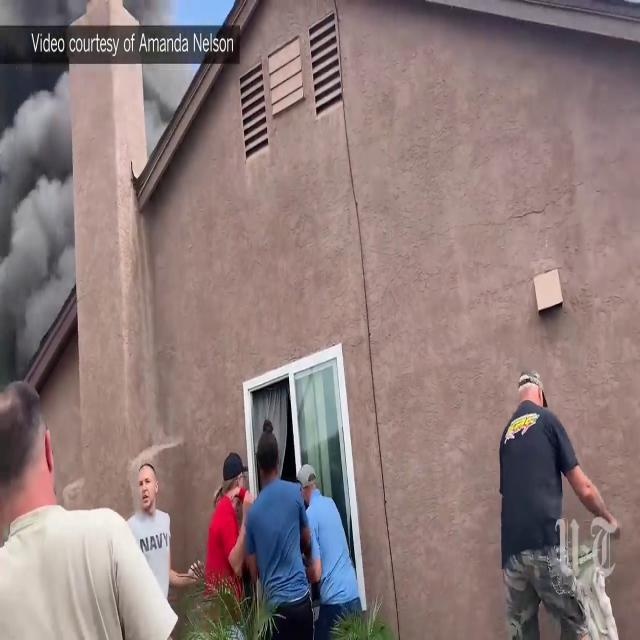Smoke: (0, 0, 96, 422)
